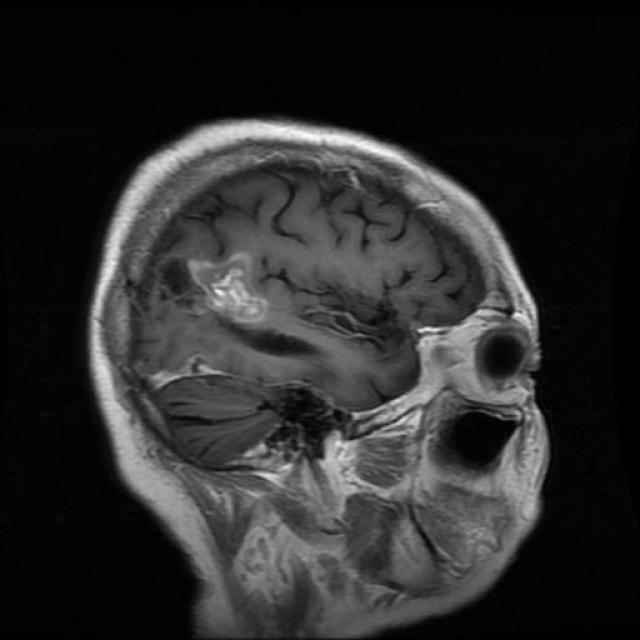glioma: (186, 244, 274, 330)
